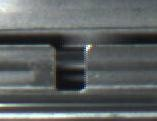oneu: (39, 40, 101, 101)
